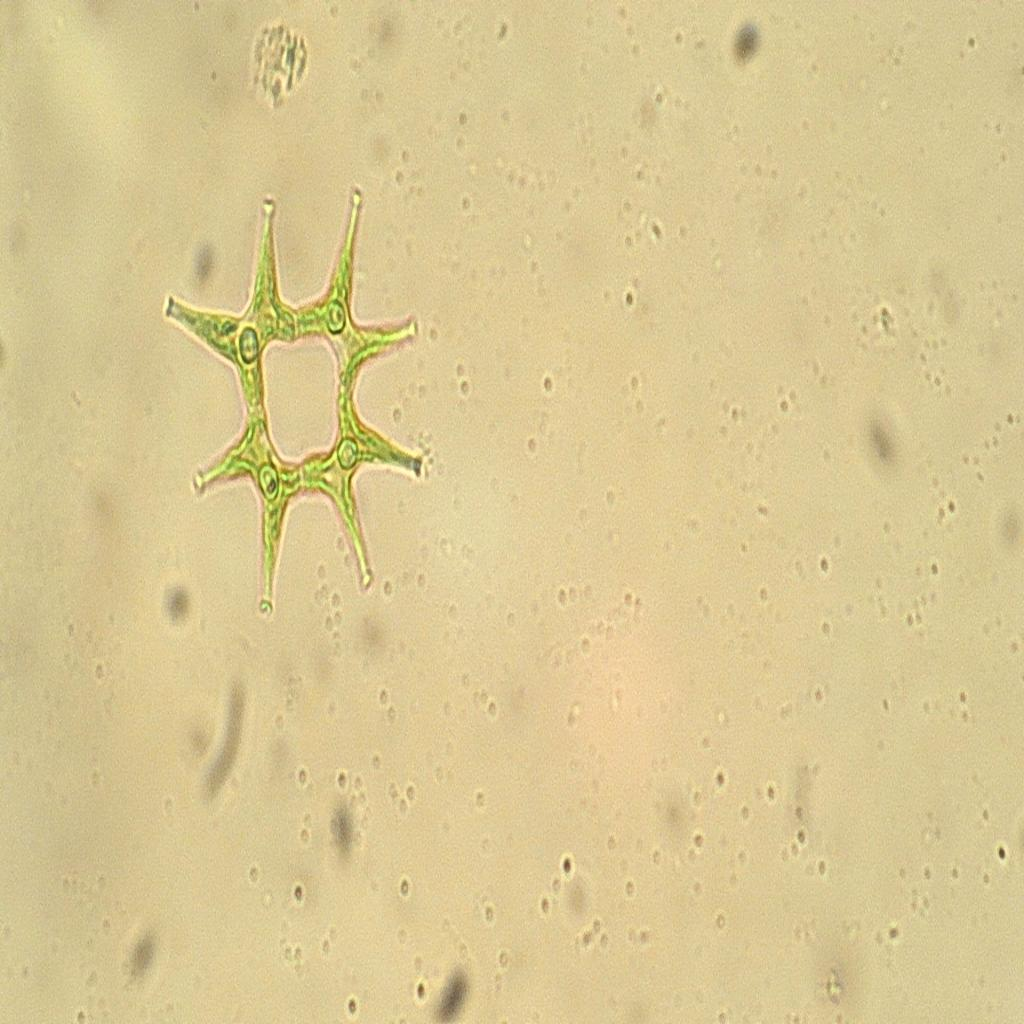Pediastrum_75O: (157, 172, 441, 627)
